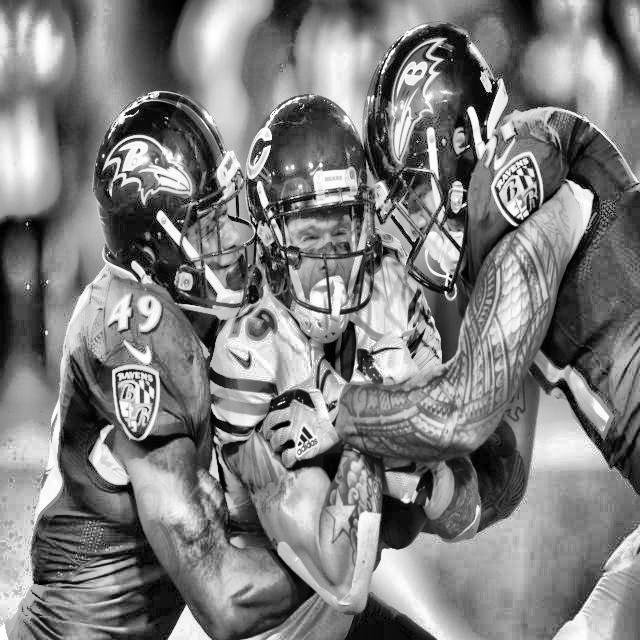Helmet: (361, 11, 514, 303), (85, 82, 262, 332), (245, 85, 380, 325)
